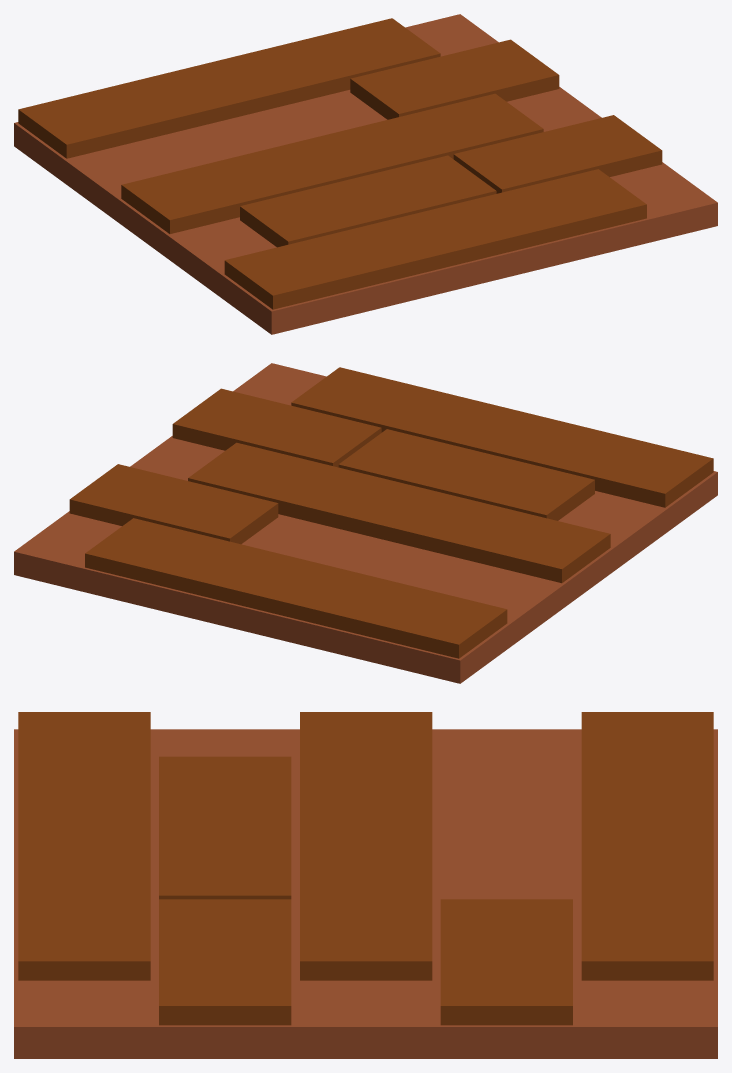
The model's file is Prop_Tile_Terrain_Dungeon_Timber_Panel_05.FBX.
3 renders of one model, top to bottom at view 1: azimuth 30°, elevation 25°; view 2: azimuth 150°, elevation 25°; view 3: azimuth 270°, elevation 25°, orthographic. The views are drawn at different scales.
Visible parts, largest first — view 1: Prop_Tile_Terrain_Dungeon_Timber_Panel_05; view 2: Prop_Tile_Terrain_Dungeon_Timber_Panel_05; view 3: Prop_Tile_Terrain_Dungeon_Timber_Panel_05.
Part boxes in pixels (x1,y1,x2,y2): Prop_Tile_Terrain_Dungeon_Timber_Panel_05: [14, 14, 717, 334]; Prop_Tile_Terrain_Dungeon_Timber_Panel_05: [14, 363, 717, 683]; Prop_Tile_Terrain_Dungeon_Timber_Panel_05: [14, 712, 717, 1058].
Size of the model in its own units: 3000 by 240 by 3000.
